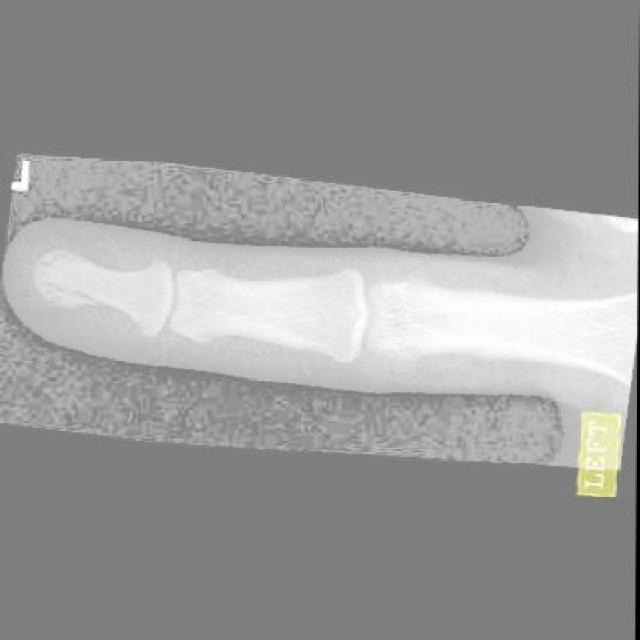Fracture: (28, 248, 99, 314)
